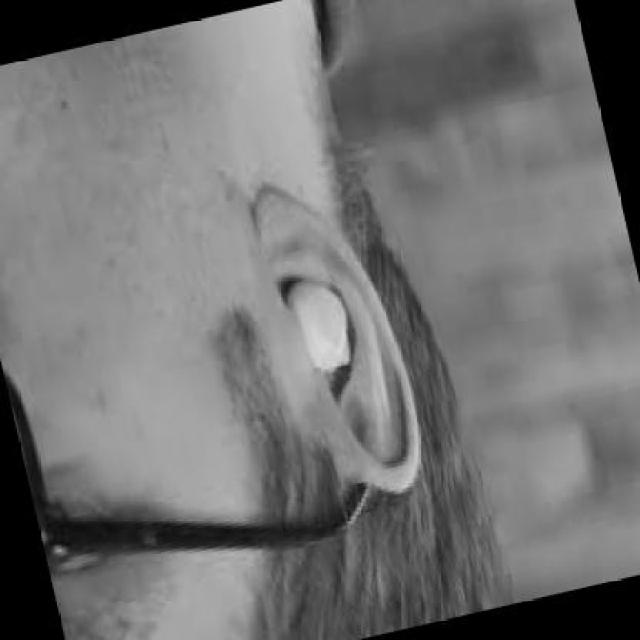earphone: (284, 265, 360, 387)
